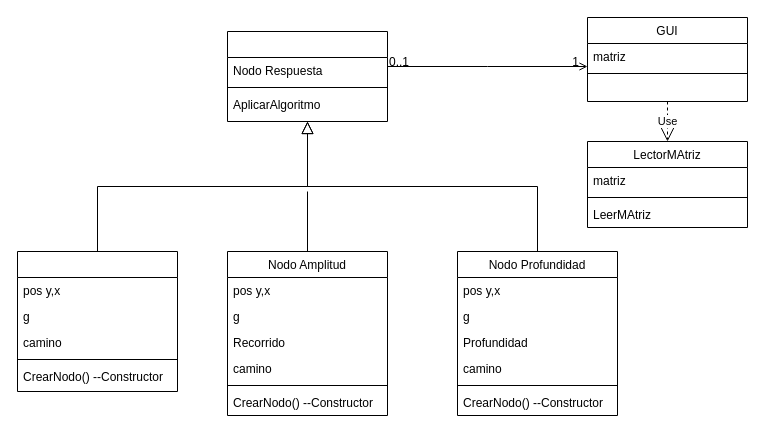
Some shapes in this 765 by 436 pixel diagram are drawn without their labels. Each missing label, with the box of its shape:
Algoritmo 1 2 o 3: (226, 30, 388, 122)
Nodo Costo: (16, 250, 178, 392)
